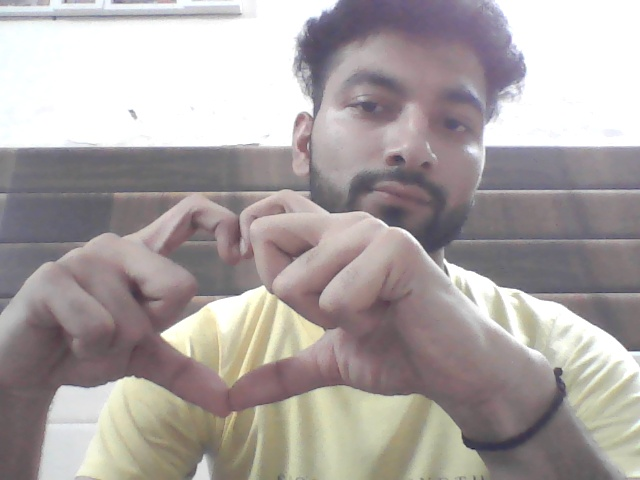Iloveyou: (20, 183, 479, 426)
